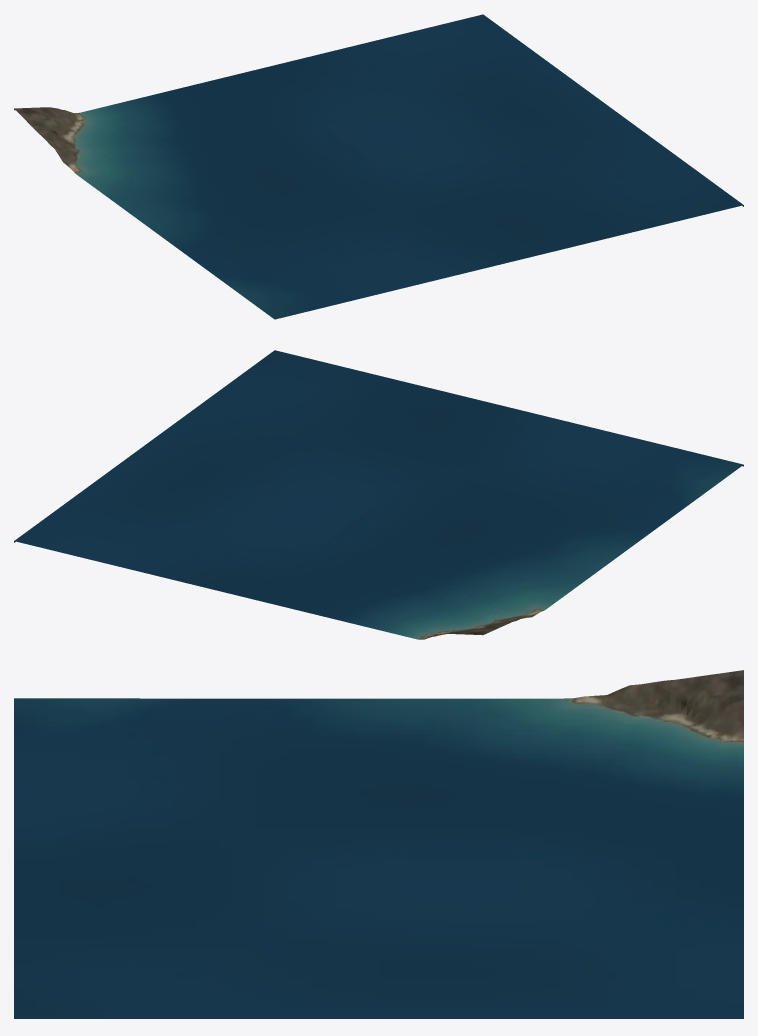
3 renders of one model, top to bottom at view 1: azimuth 30°, elevation 25°; view 2: azimuth 150°, elevation 25°; view 3: azimuth 270°, elevation 25°, orthographic. The views are drawn at different scales.
Size of the model in its own units: 250 by 11.38 by 241.
Materials: 1 (1 with a texture image).
